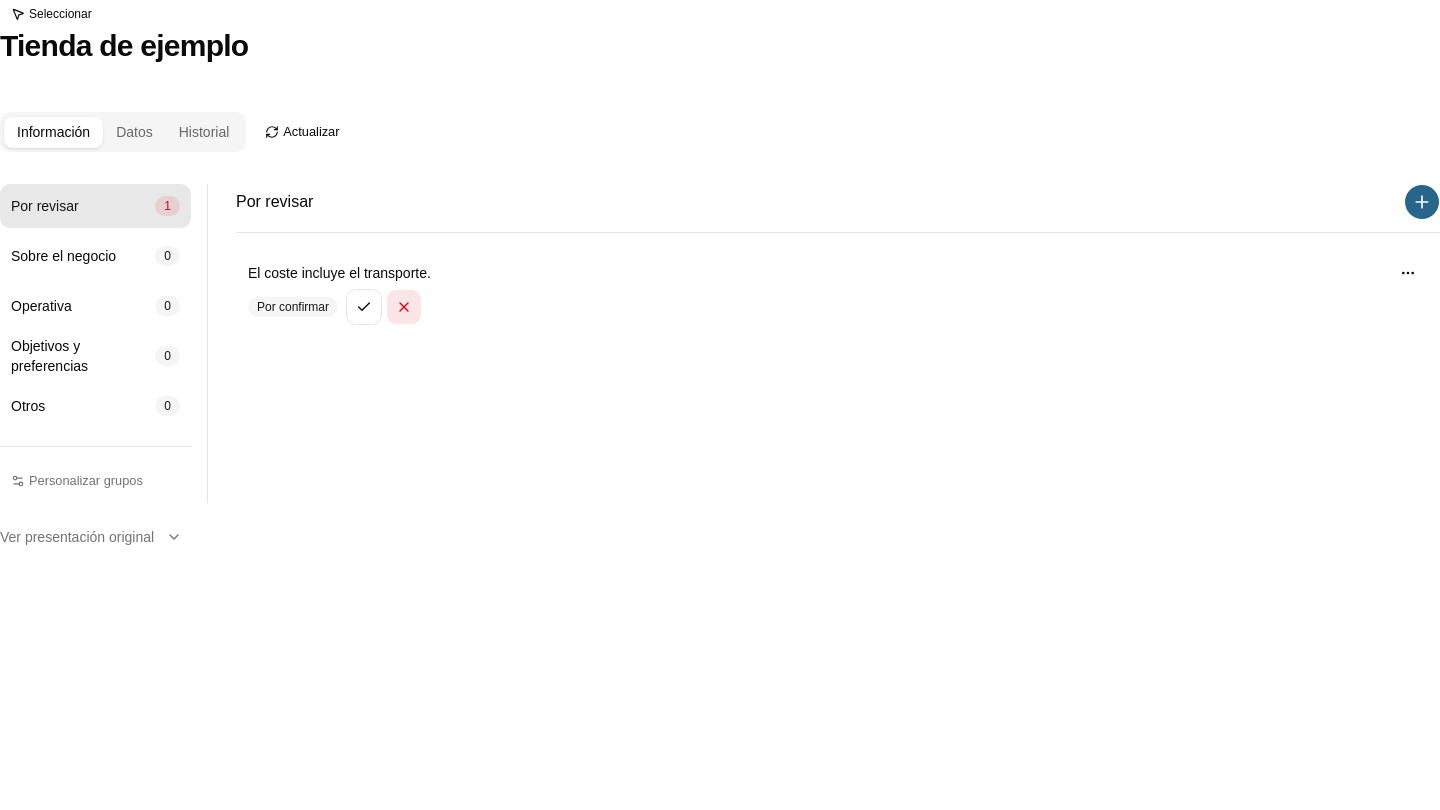
Test: compact business dossier › keeps a failed decision visible in the reading dialog without losing its text
The width and height of the screenshot is (1440, 810).
Expected: the tab "Información" is shown, x1=4 y1=116 x2=103 y2=148
Click the button "El coste incluye el transporte.": (339, 273) x1=248 y1=261 x2=1376 y2=285
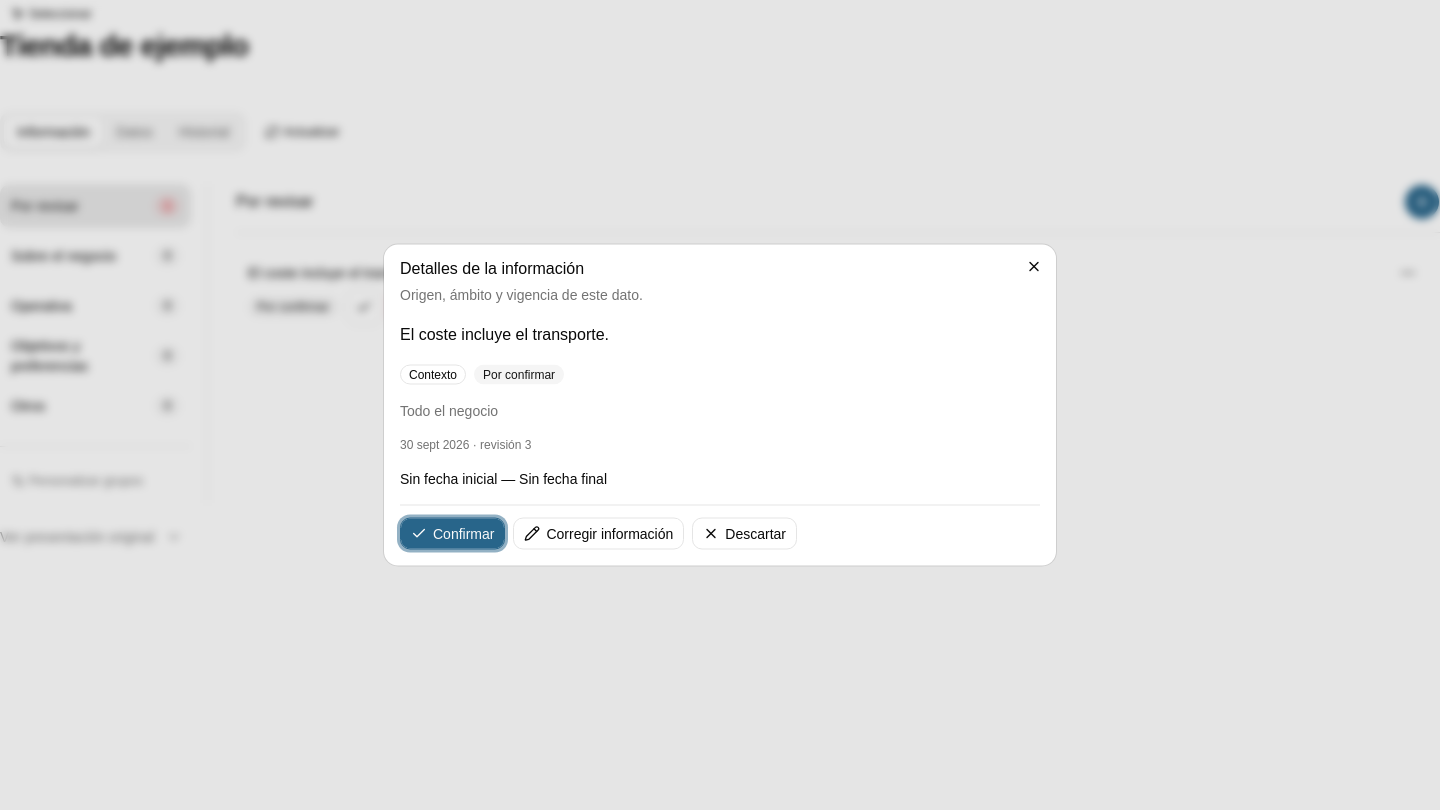
Click the button "Confirmar": (453, 534) x1=400 y1=518 x2=506 y2=550
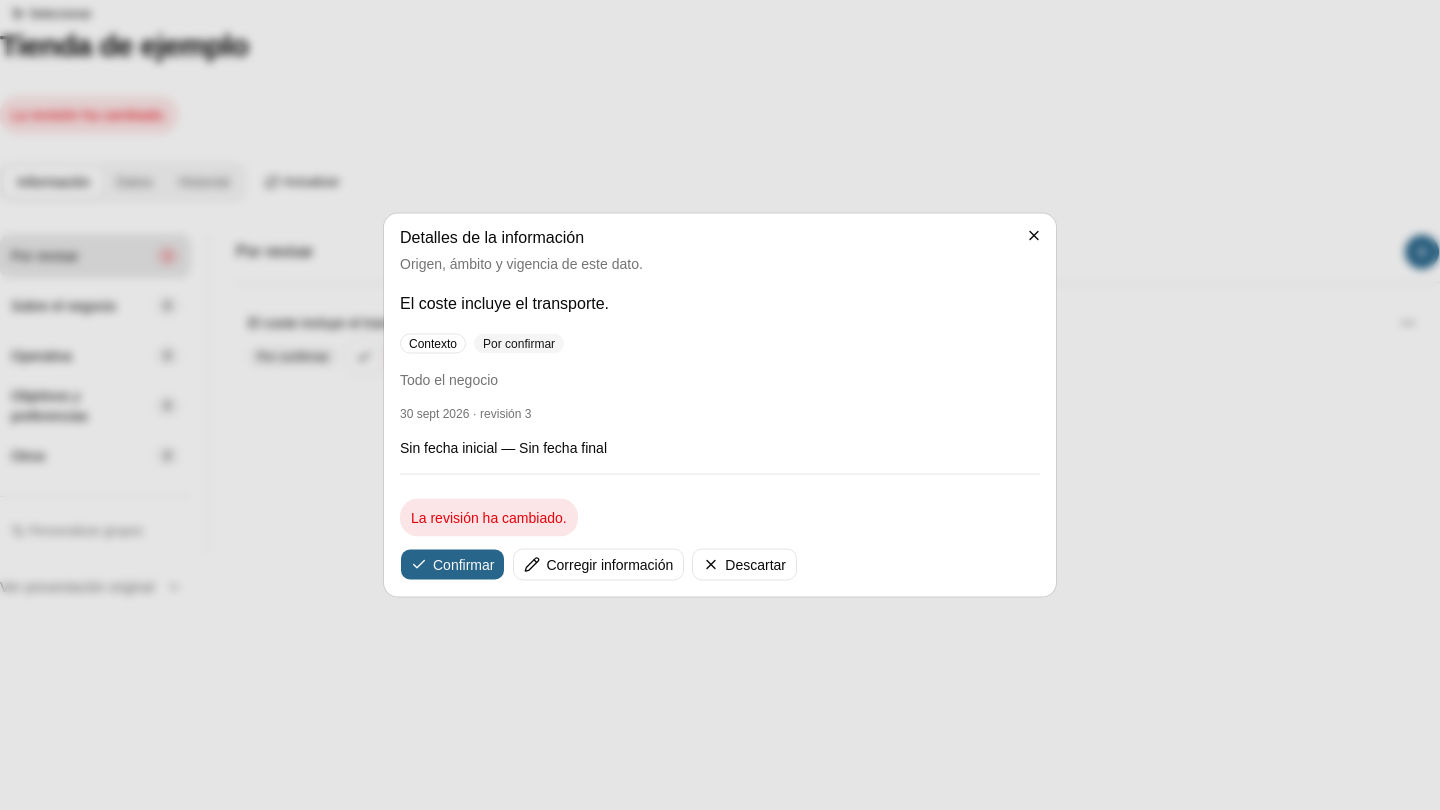
Expected: the text "El coste incluye el transporte." is shown, x1=400 y1=294 x2=609 y2=312
Expected: the button "Confirmar" is enabled, x1=400 y1=548 x2=506 y2=580
Expected: the text "La revisión ha cambiado." is shown, x1=411 y1=508 x2=567 y2=528
